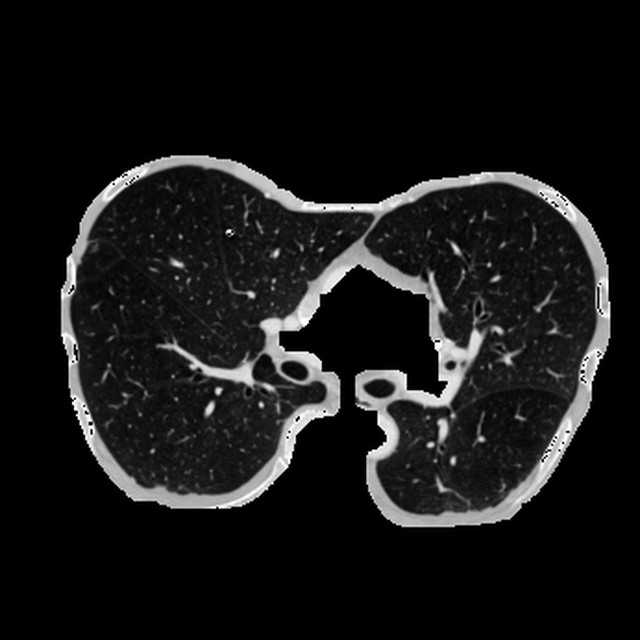PN: (226, 228, 233, 235)
